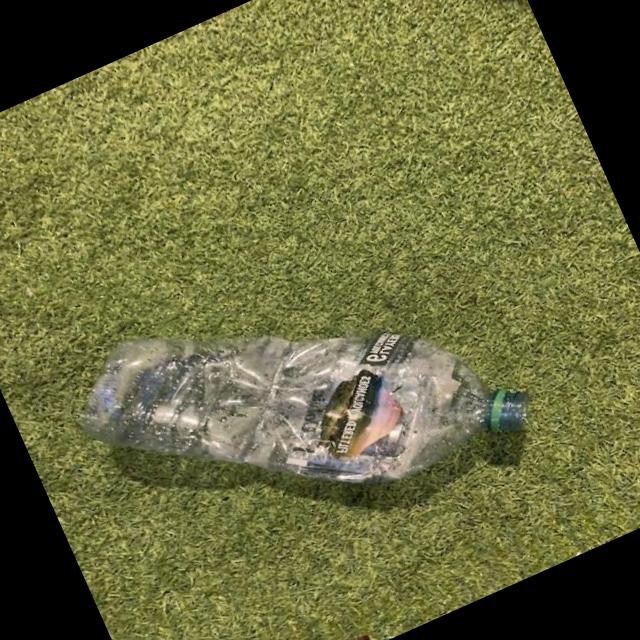BotolPlastik: (55, 196, 543, 596)
